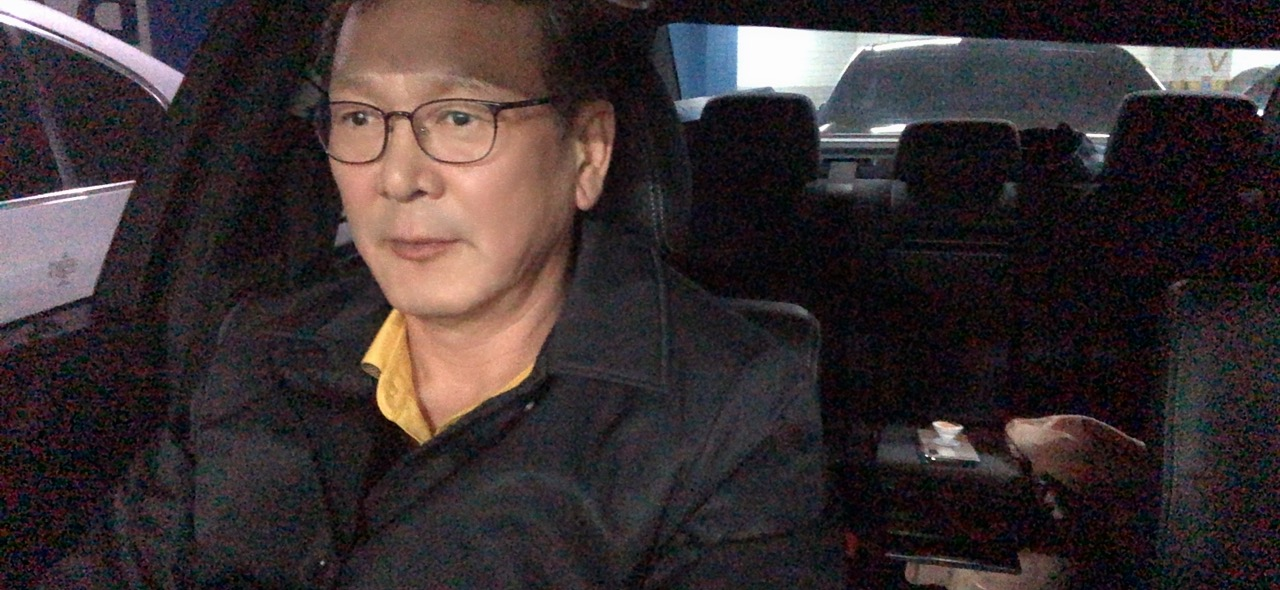front: (34, 5, 832, 590)
